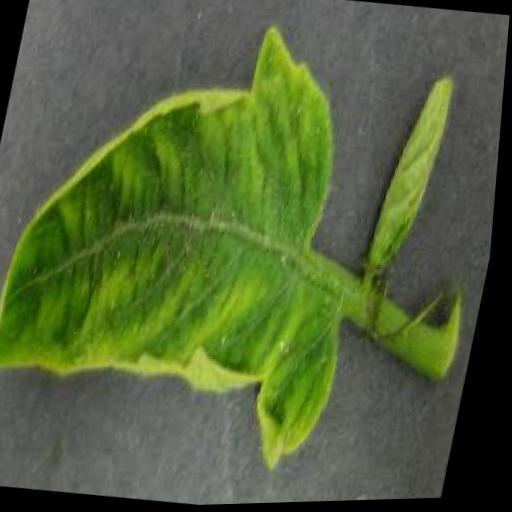Yellow Leaf Curl Virus: (0, 0, 405, 484), (368, 68, 461, 273)
